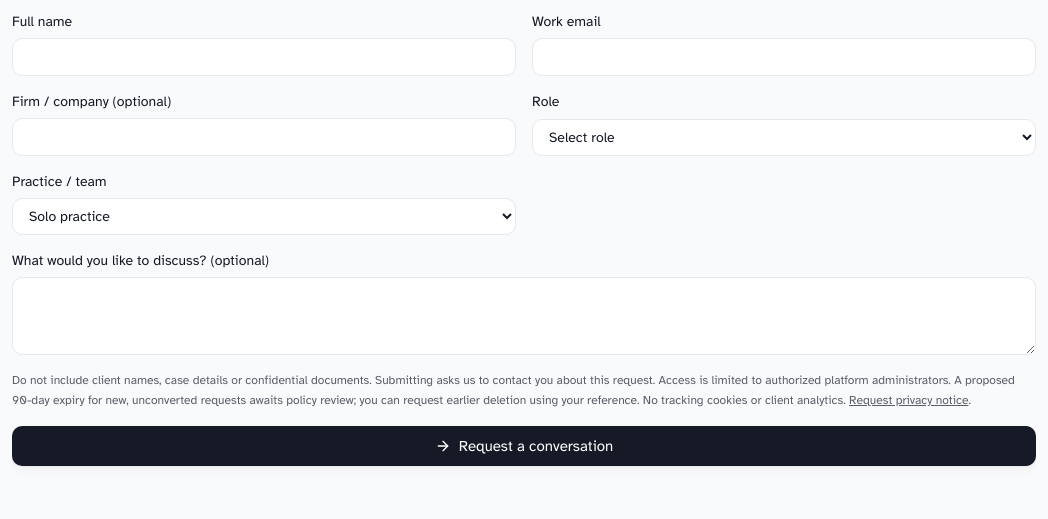
seo_demo_20261009 public form › saves with explicit role, attribution and notice, without tracking
Type "Demo Advocate" into the field labelled "Full name". click: (264, 57)
box: [12,38,516,76]
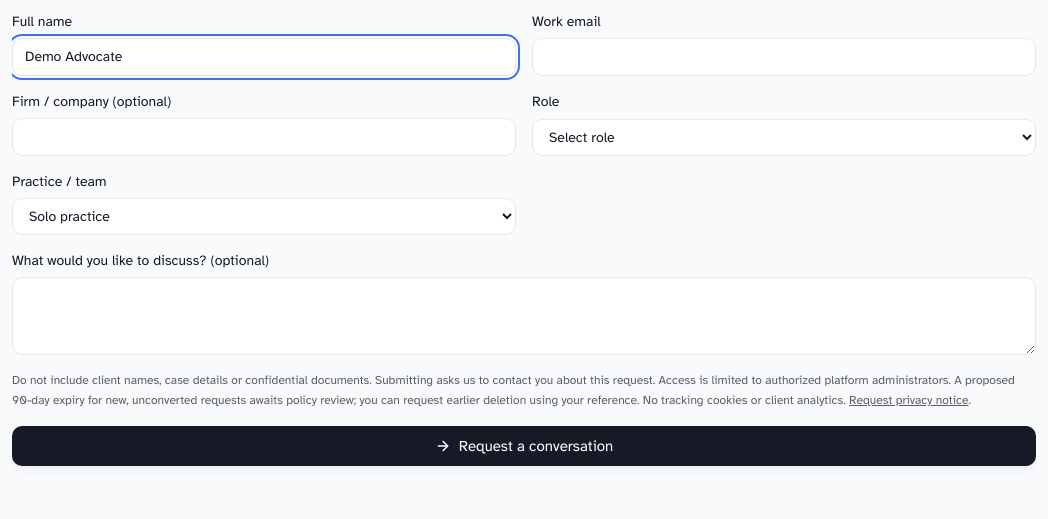
Type "demo@example.com" into the field labelled "Work email". click: (784, 57)
box: [532,38,1036,76]
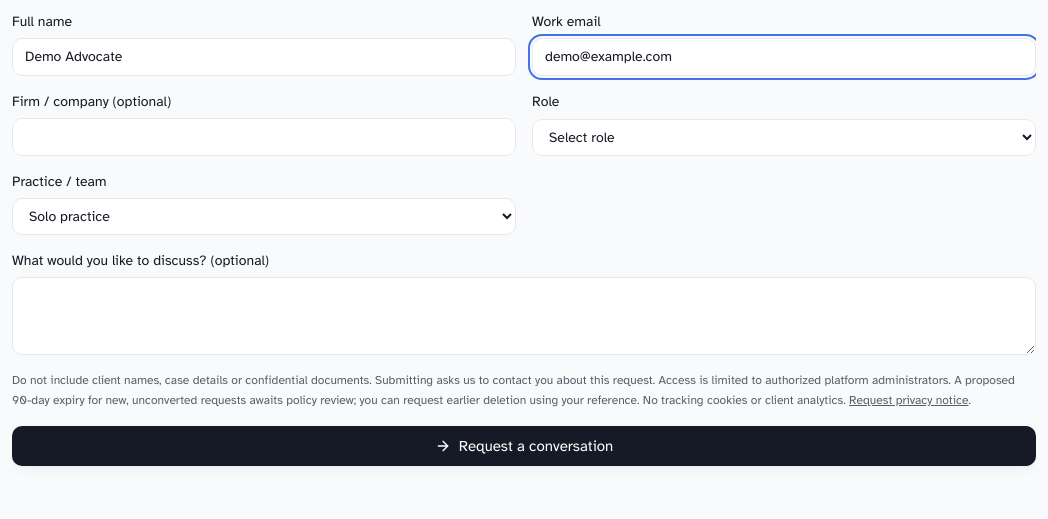
Select "Solo advocate" in the dropdown labelled "Role". click: (784, 137)
box: [532,118,1036,156]
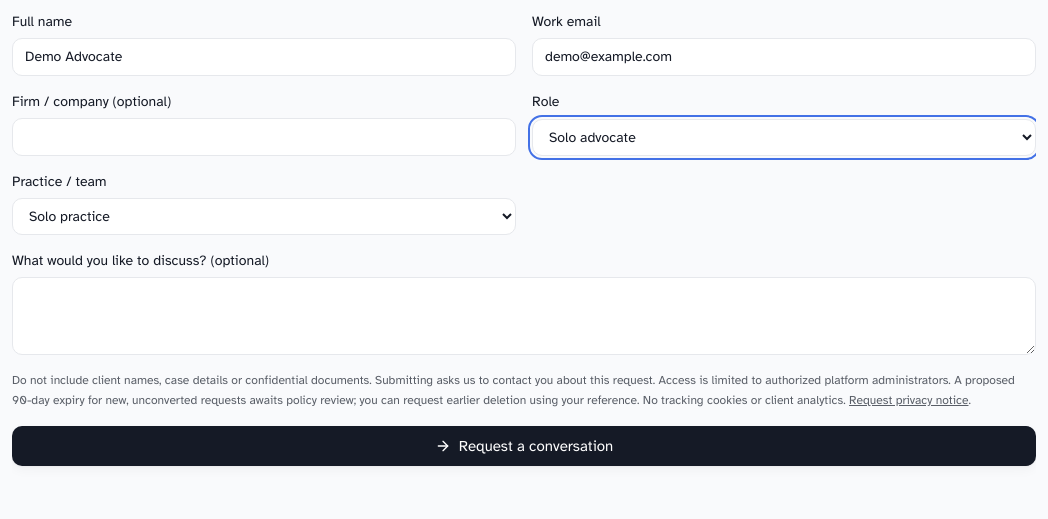
Click the button "Request a conversation". click: click(524, 446)
box: [12,426,1036,466]
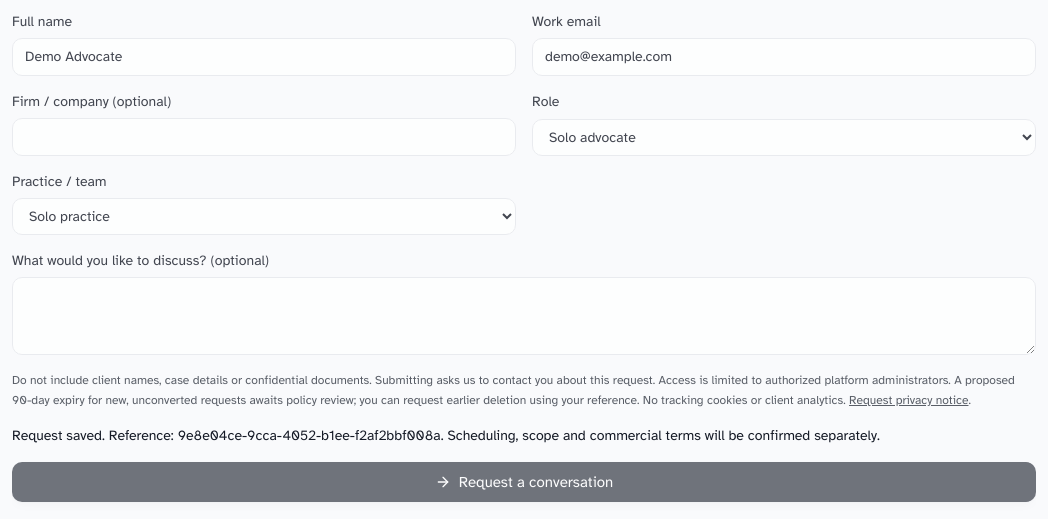
Expected: the message shows "Request saved.", [12,427,178,444]
Expected: the button "Request a conversation" is disabled, [12,462,1036,502]
